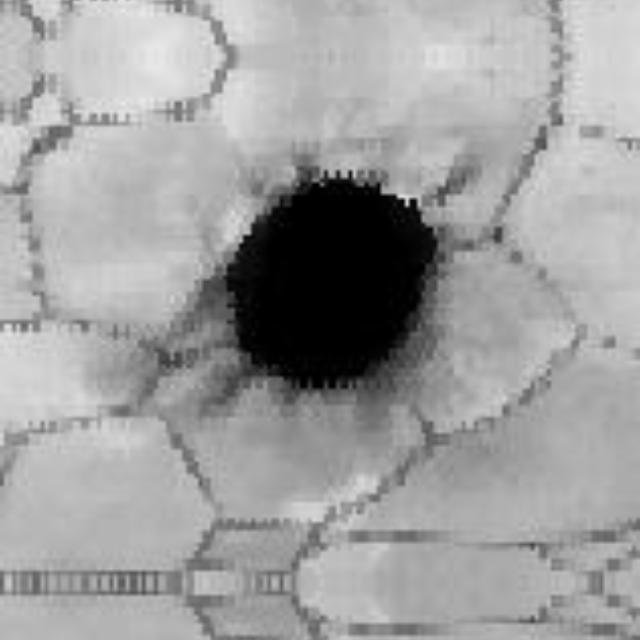good_void: (188, 155, 482, 422)
